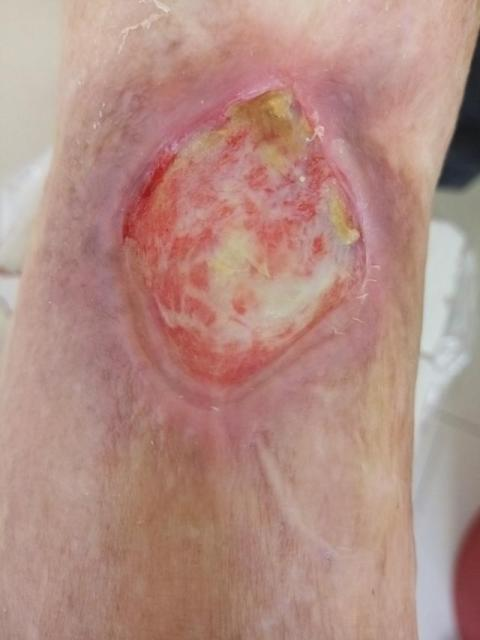wound: (116, 76, 371, 413)
